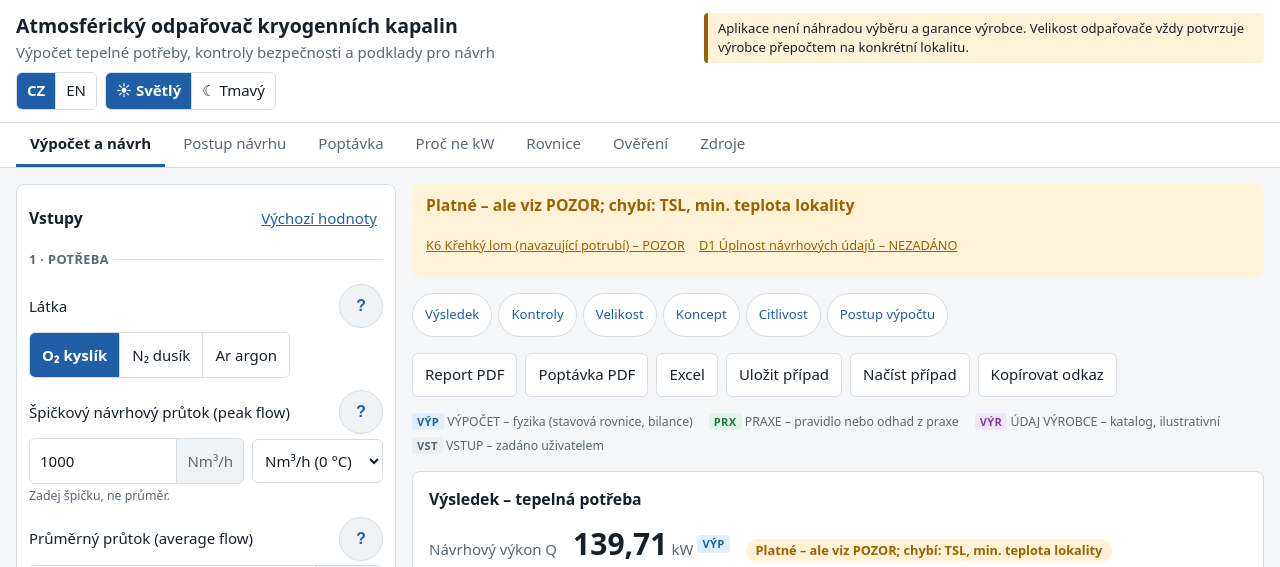
Test: UX po nezávislé kontrole › nečitelné číslo → hláška u pole
Replace the text in the field labelled "Špičkový návrhový průtok (peak flow)" with "abc": (103, 462) [30,440,176,484]
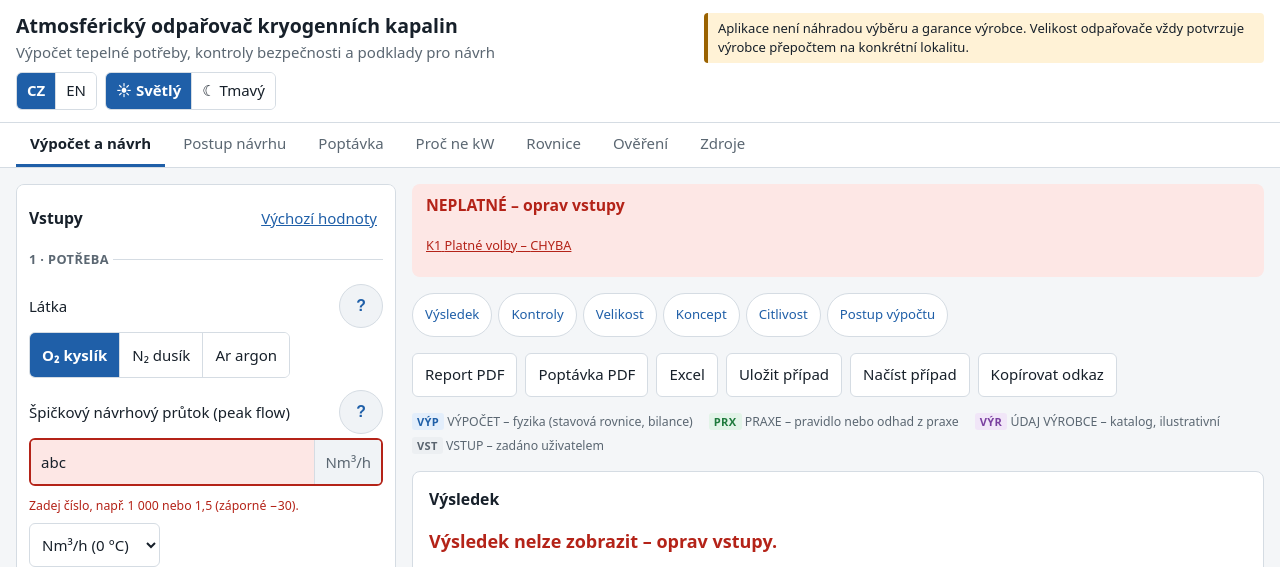
Check: the text "Zadej číslo, např. 1 000 nebo 1,5 (záporné −30)." is shown, box [29,498,299,515]
